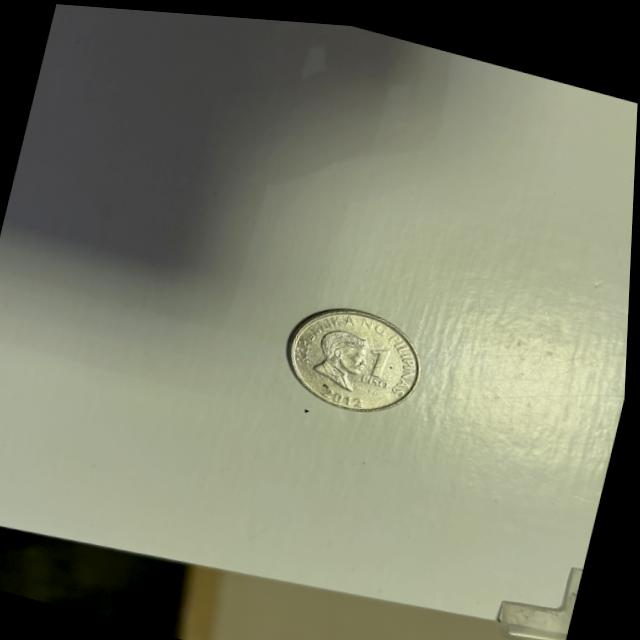1_Old_Front: (360, 335, 404, 387)
